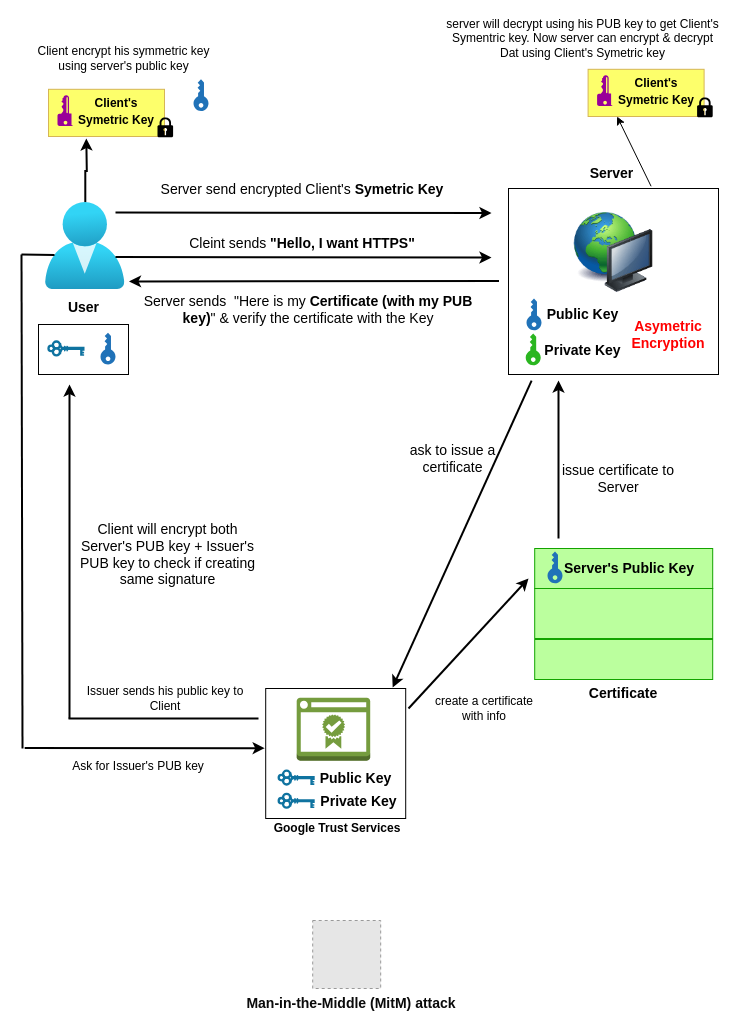
The diagram is 740 pixels wide and 1036 high, and some of its shapes have lost their labels. Grey dashed boxes stand in for pictures. Here are the shapes that lost their labels. From the top down, the centre of each, then its label:
At [623,613]: "- Domain: *.google.com - Public Key: (RSA / ECC) - Issuer: Google Trust Services".
At [623,659]: "Signature = Server PUB key + Issuer PUB key".
